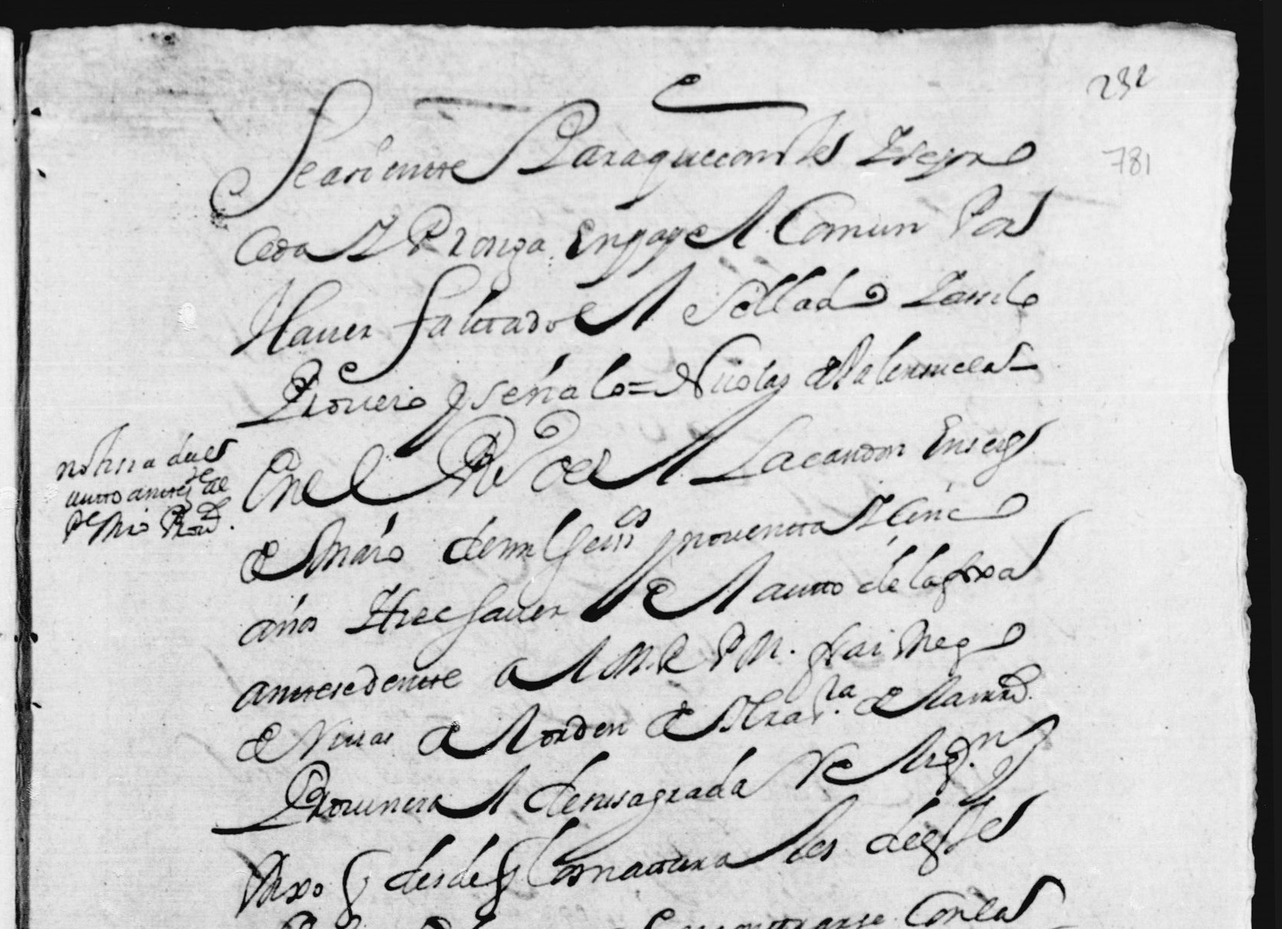lacandon: (689, 415, 905, 485)
